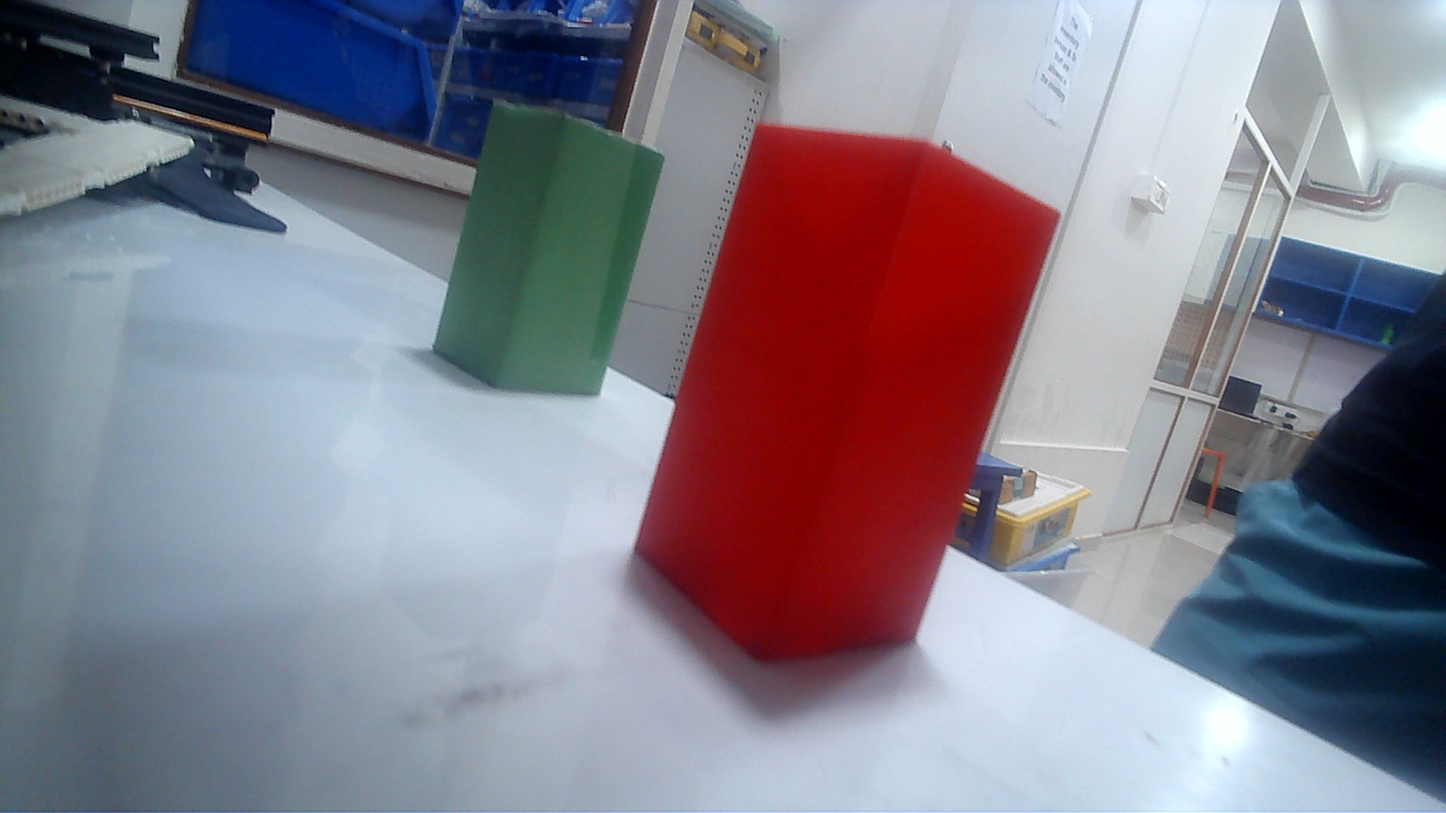red: (685, 81, 1048, 713)
